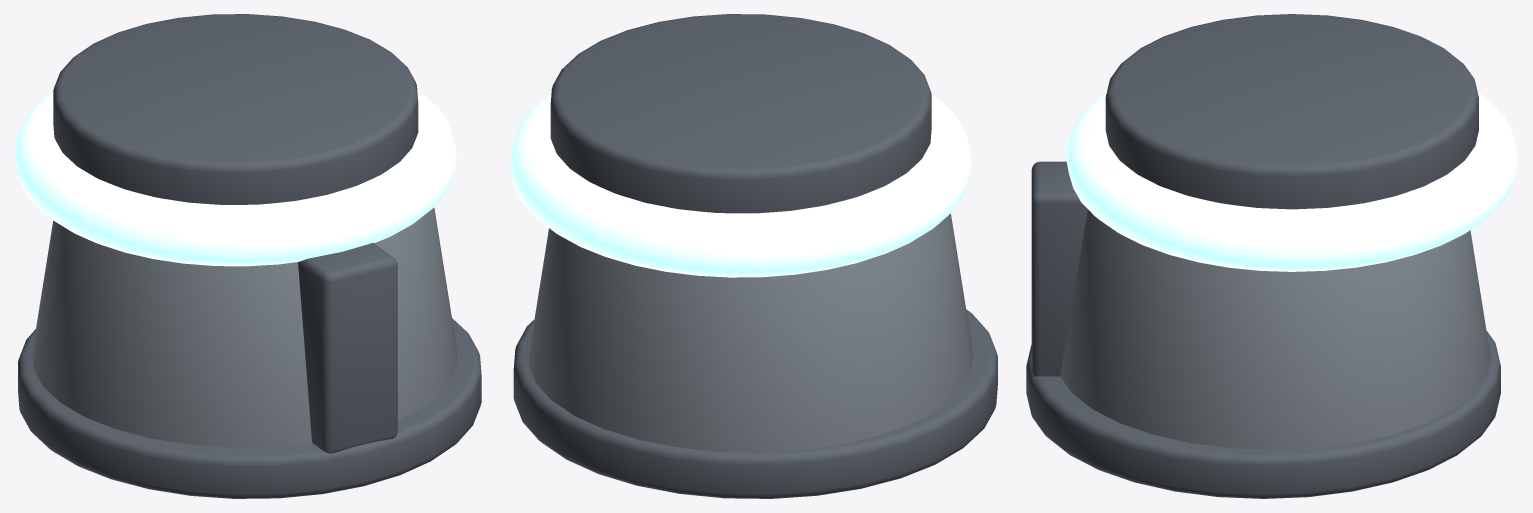
The model's file is hecarim_hoofFoot.glb.
The picture shows the model from 3 angles, left to right: view 1: azimuth 30°, elevation 25°; view 2: azimuth 150°, elevation 25°; view 3: azimuth 270°, elevation 25°; orthographic projection. The views are drawn at different scales.
Parts seen in each view (by area): view 1: hecarim_hoofFoot; view 2: hecarim_hoofFoot; view 3: hecarim_hoofFoot.
Boxes of the visible parts, left/top/right/bottom form: hecarim_hoofFoot: left=14, top=14, right=481, bottom=498; hecarim_hoofFoot: left=510, top=14, right=997, bottom=498; hecarim_hoofFoot: left=1026, top=14, right=1518, bottom=498.
Size of the model in its own units: 0.2484 by 0.18 by 0.2577.
